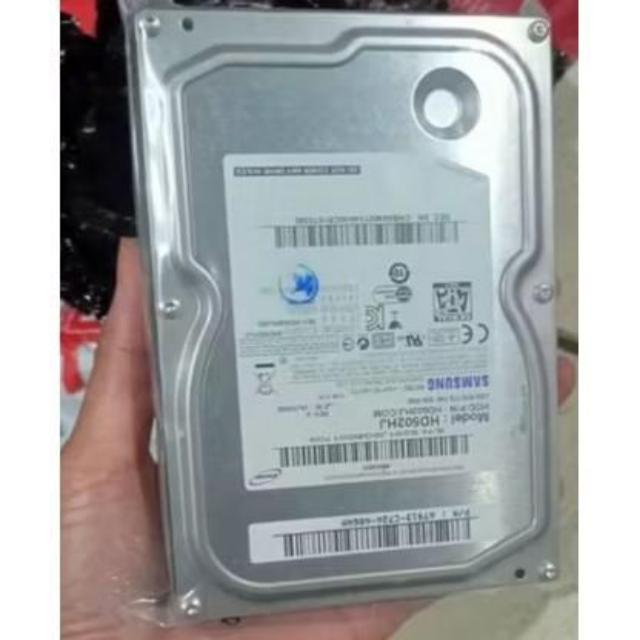DISK: (126, 0, 557, 617)
